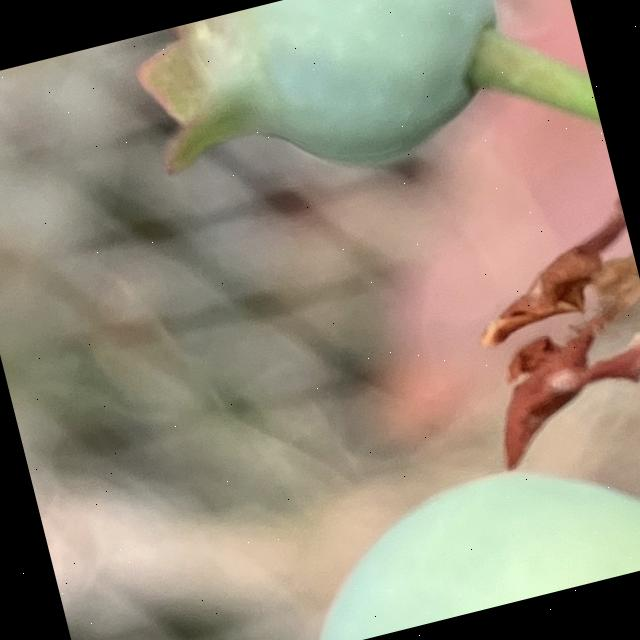Blueberries: (194, 422, 640, 640)
